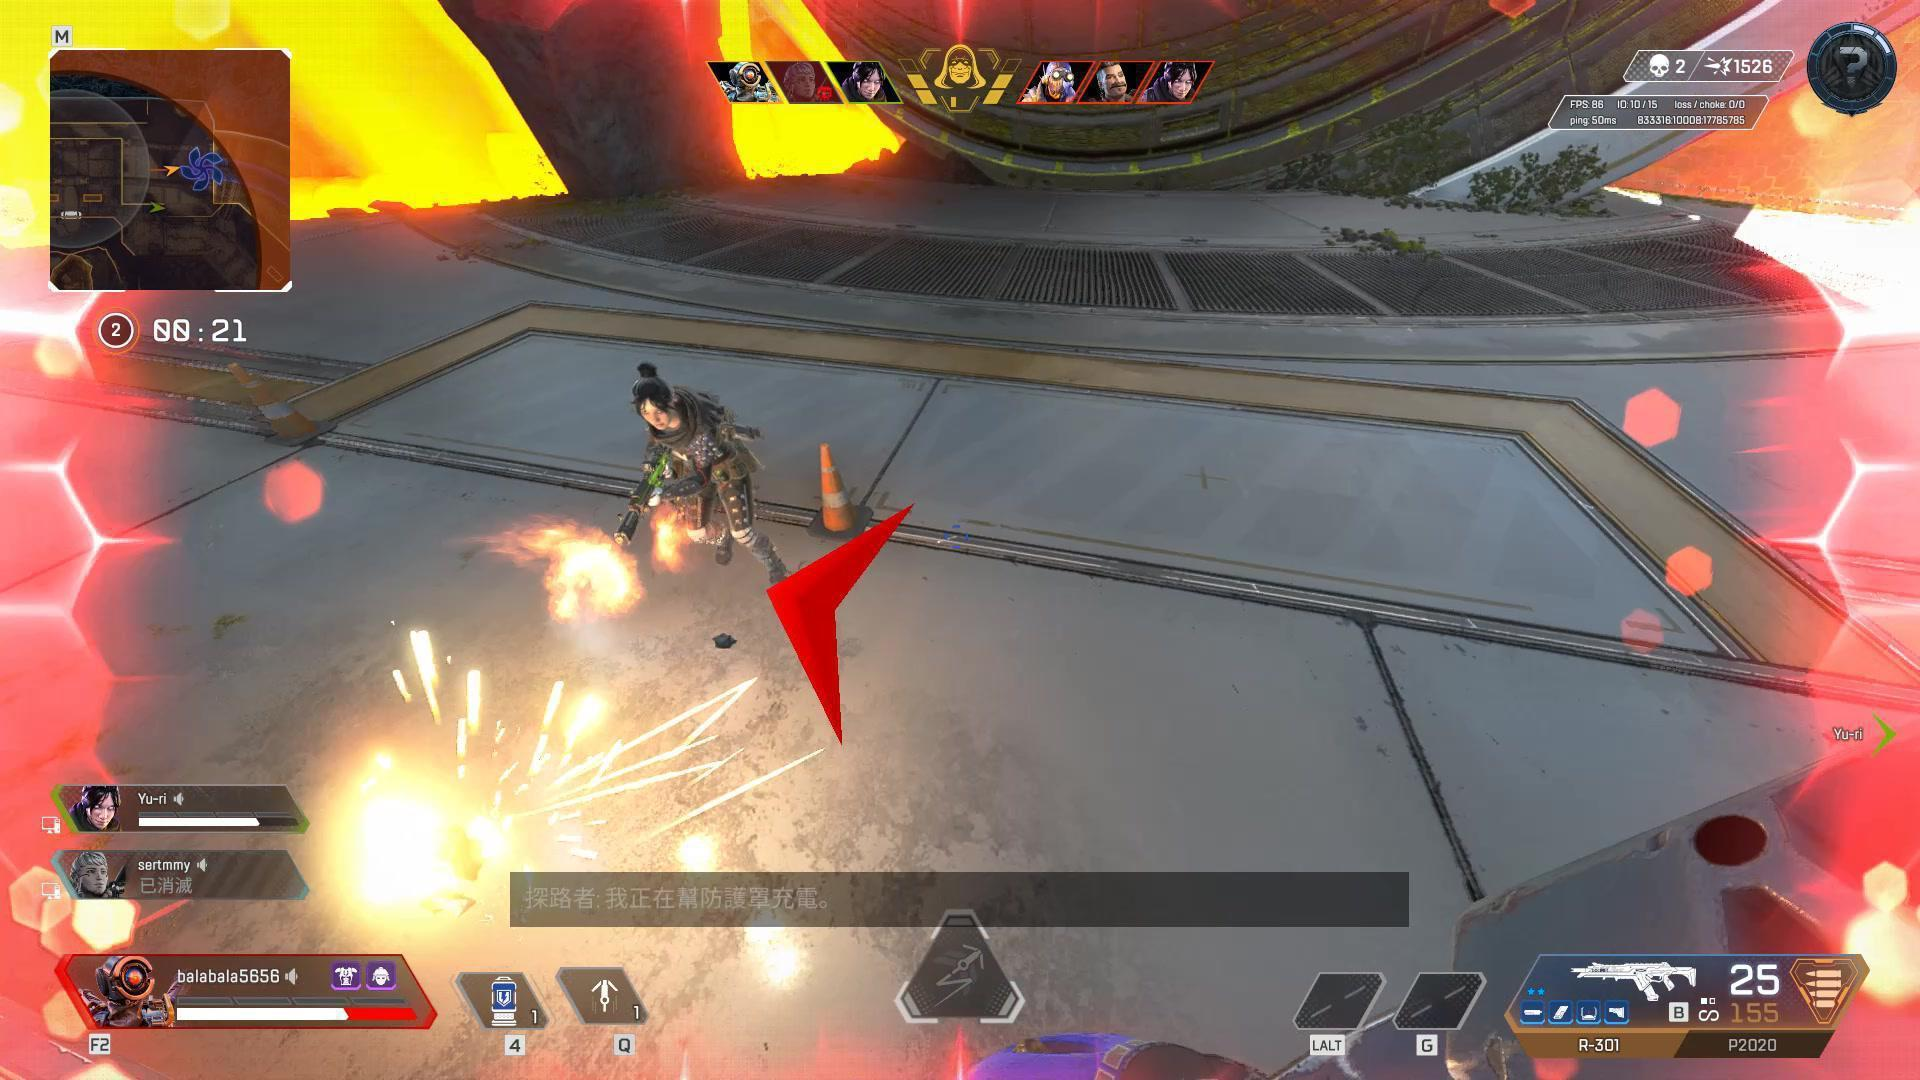avatar: (629, 359, 760, 568)
